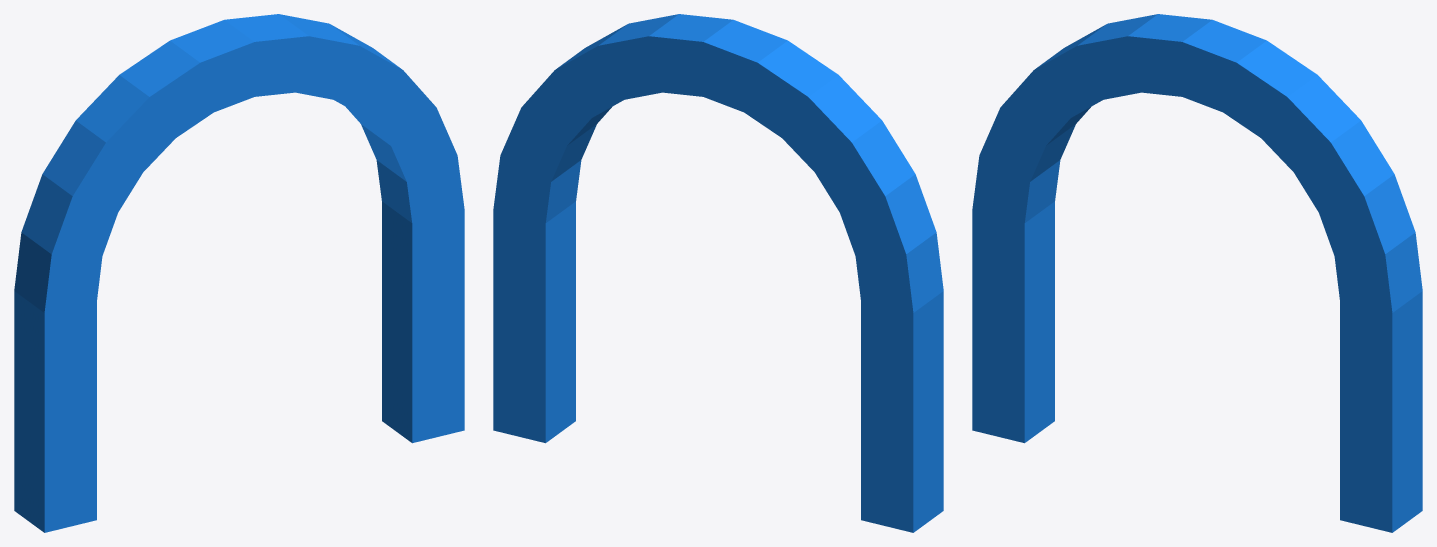
File: Proto_Building_Block_Arch_Round_01.fbx
3 renders of one model, left to right at view 1: azimuth 30°, elevation 25°; view 2: azimuth 150°, elevation 25°; view 3: azimuth 330°, elevation 25°, orthographic.
Parts seen in each view (by area): view 1: Proto_Building_Block_Arch_Round_01; view 2: Proto_Building_Block_Arch_Round_01; view 3: Proto_Building_Block_Arch_Round_01.
Part boxes in pixels (x1=…): Proto_Building_Block_Arch_Round_01: x1=14, y1=14, x2=464, y2=532; Proto_Building_Block_Arch_Round_01: x1=493, y1=14, x2=943, y2=532; Proto_Building_Block_Arch_Round_01: x1=972, y1=14, x2=1422, y2=532.
Bounding box in the file's own units: 2 × 2 × 0.25.
